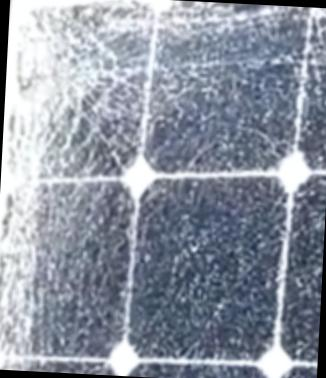Crack: (1, 0, 175, 169), (0, 0, 74, 360)
